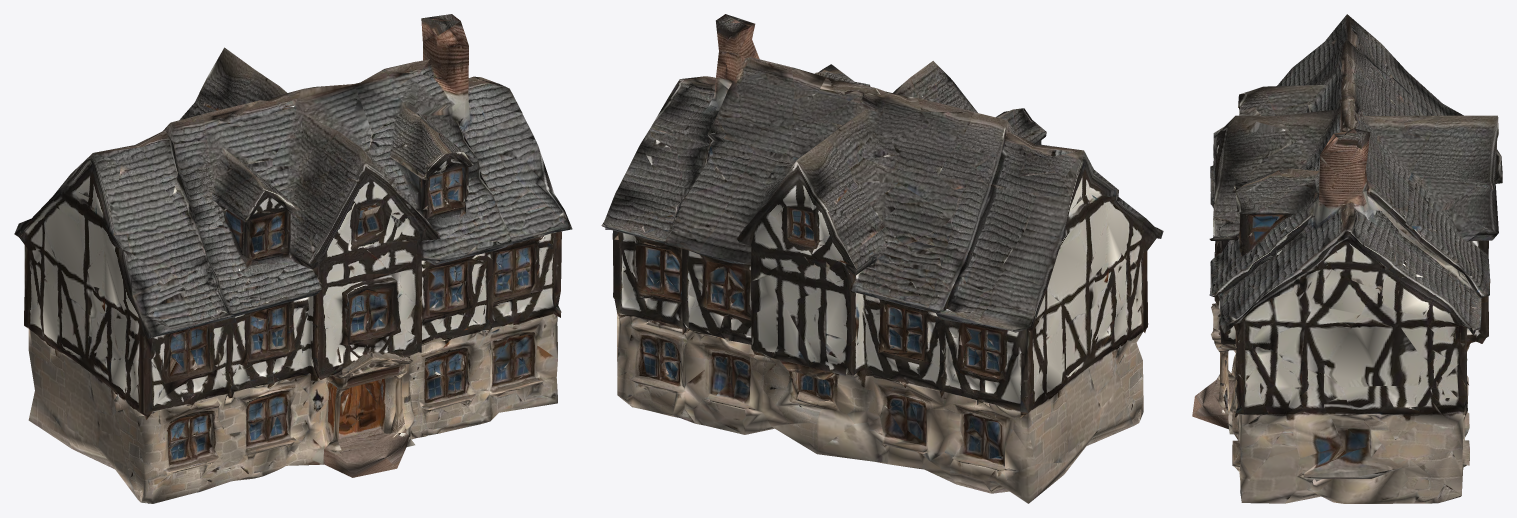
The model's file is haus-2.glb.
3 views of the same model, side by side, from view 1: azimuth 30°, elevation 25°; view 2: azimuth 150°, elevation 25°; view 3: azimuth 270°, elevation 25° (orthographic). The views are drawn at different scales.
Bounding box in the file's own units: 1.89 × 1.51 × 1.23.
1 material, 1 textured.
